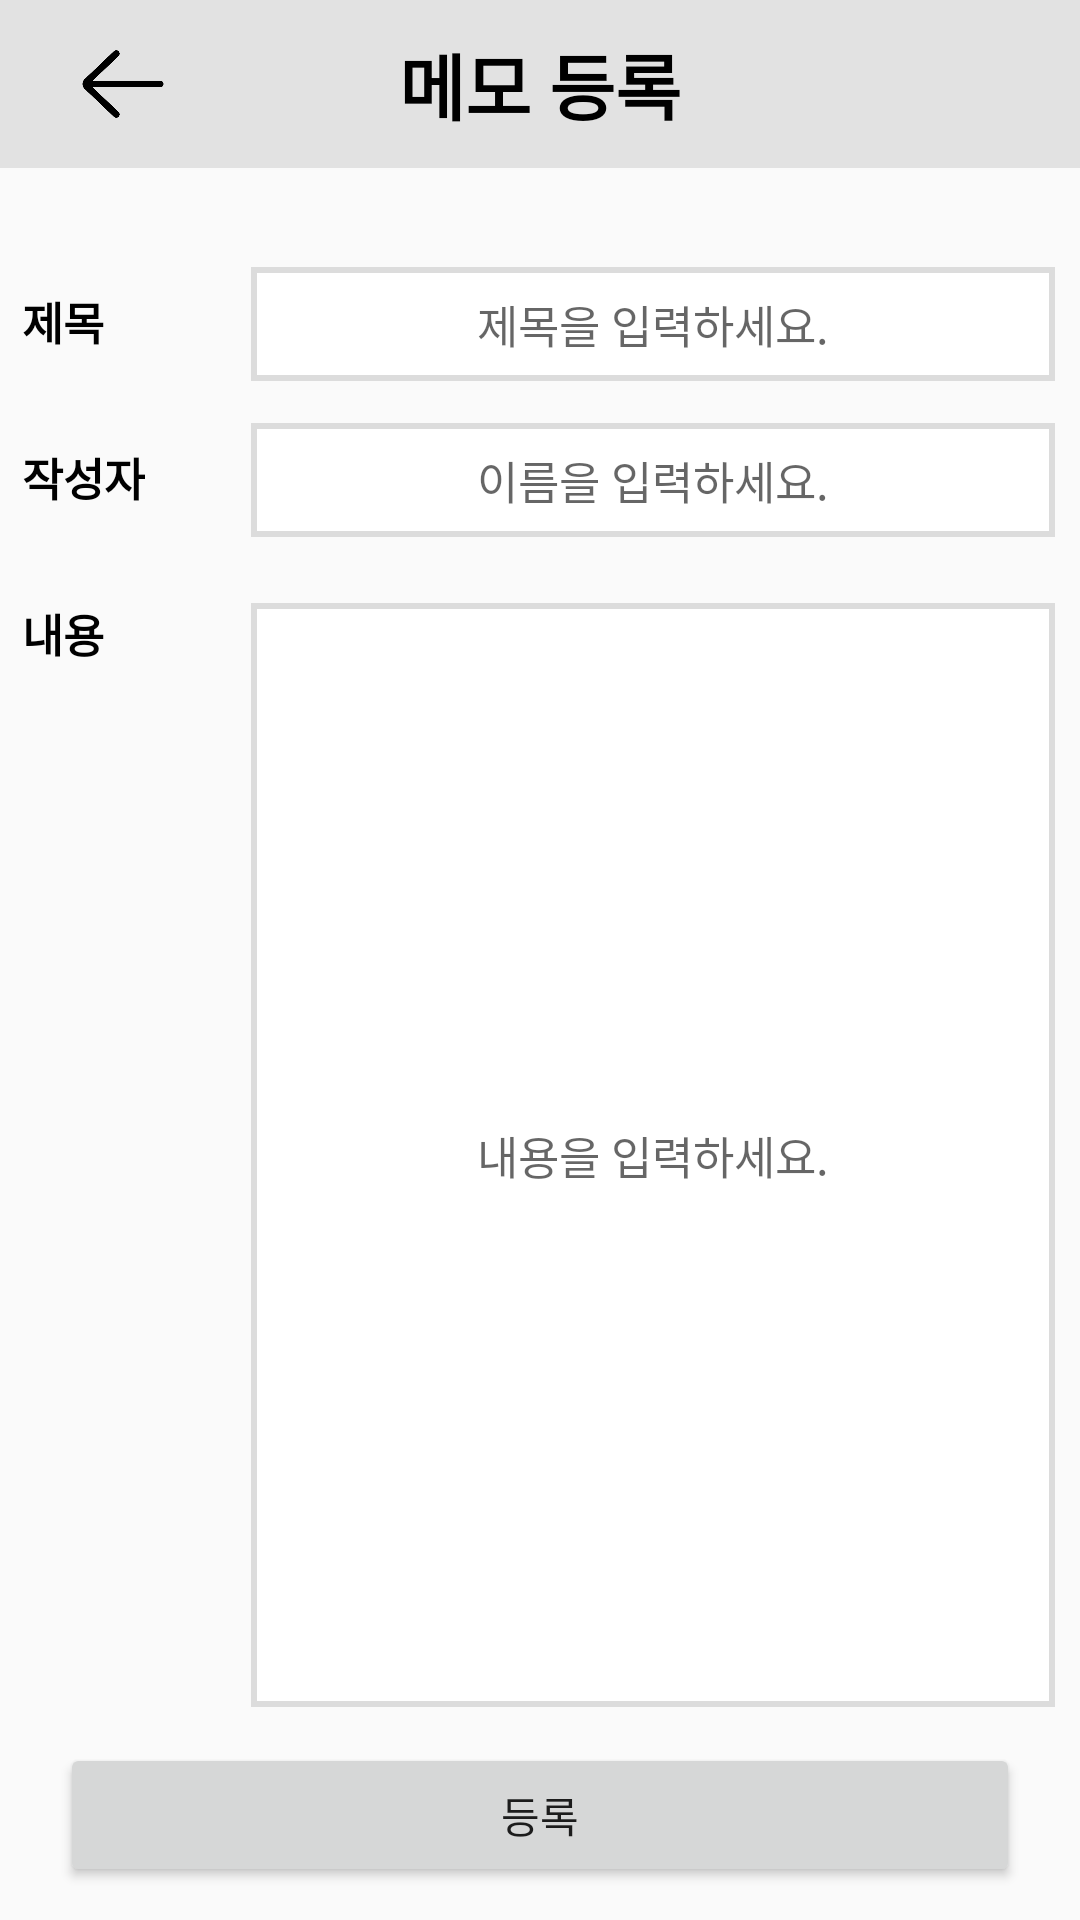

Icons on this 1080px x 1920px Android screen, each with its box as [x1=x1, y1=y1, x2=x2, y2=y2]:
back: [x1=82, y1=50, x2=164, y2=118]
